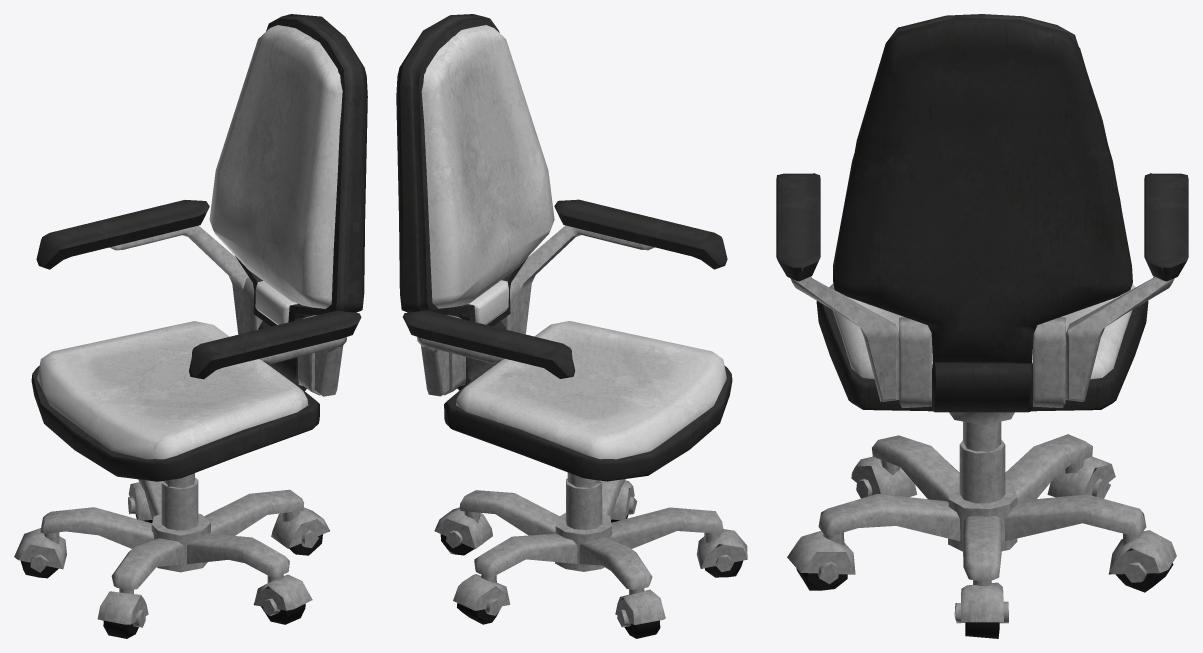
The model's file is SM_Office_Chair.fbx.
3 renders of one model, left to right at view 1: azimuth 30°, elevation 25°; view 2: azimuth 150°, elevation 25°; view 3: azimuth 270°, elevation 25°, orthographic. The views are drawn at different scales.
Visible parts, largest first — view 1: SM_Office_Chair_LOD0; view 2: SM_Office_Chair_LOD0; view 3: SM_Office_Chair_LOD0.
Part boxes in pixels (x1,y1,x2,y2): SM_Office_Chair_LOD0: (14,14,367,638); SM_Office_Chair_LOD0: (396,14,747,638); SM_Office_Chair_LOD0: (776,14,1188,638).
Size of the model in its own units: 73.27 by 76.86 by 130.
Materials: 1 (1 with a texture image).
